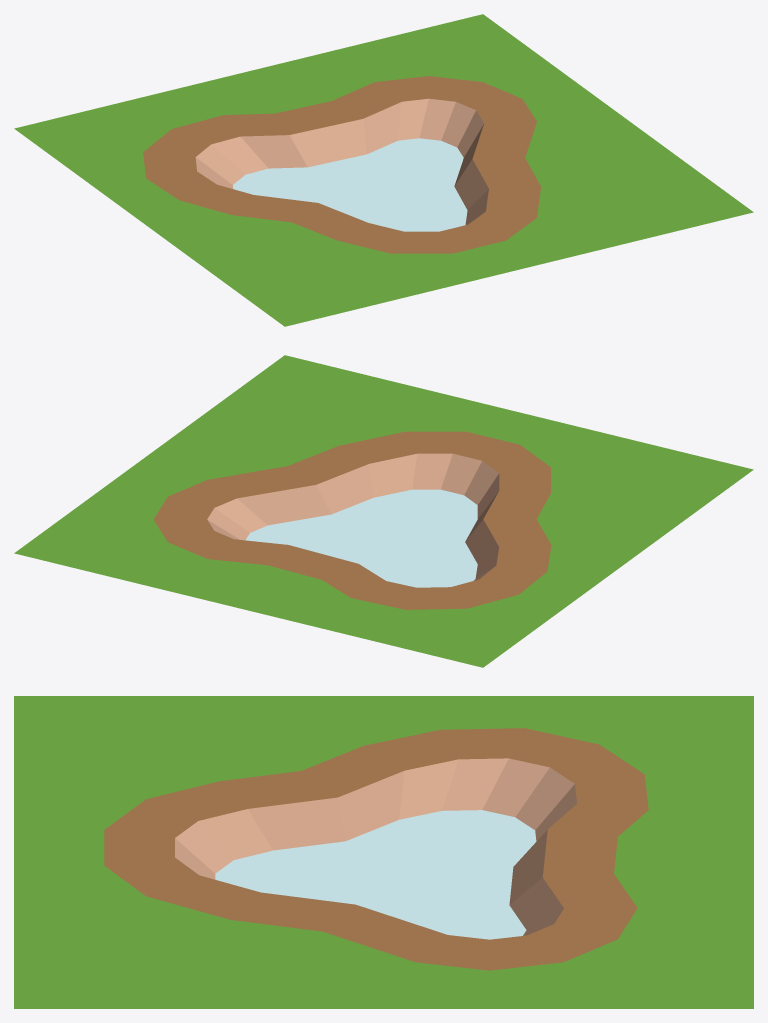
File: ground_riverTile.glb
The picture shows the model from 3 angles, top to bottom: view 1: azimuth 30°, elevation 25°; view 2: azimuth 150°, elevation 25°; view 3: azimuth 270°, elevation 25°; orthographic projection. The views are drawn at different scales.
Visible parts, largest first — view 1: ground_riverTile; view 2: ground_riverTile; view 3: ground_riverTile.
Part boxes in pixels (x1,y1,x2,y2): ground_riverTile: (14, 14, 753, 326); ground_riverTile: (14, 355, 753, 667); ground_riverTile: (14, 696, 753, 1008).
Size of the model in its own units: 1 by 0.05 by 1.
